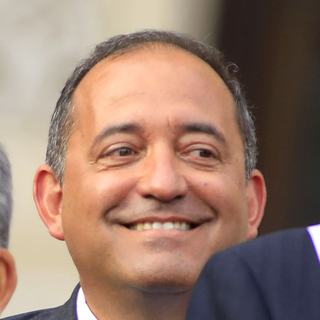eye: (175, 140, 222, 166), (95, 142, 142, 163)
